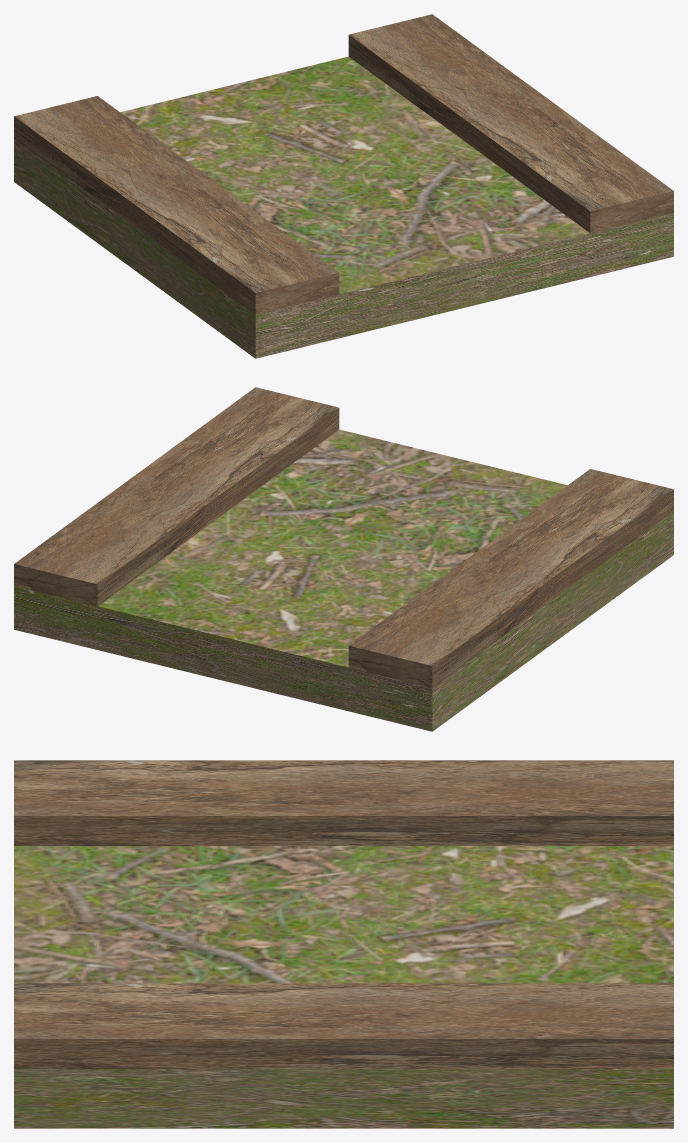
The model's file is Straight.glb.
The picture shows the model from 3 angles, top to bottom: view 1: azimuth 30°, elevation 25°; view 2: azimuth 150°, elevation 25°; view 3: azimuth 270°, elevation 25°; orthographic projection. The views are drawn at different scales.
Parts seen in each view (by area): view 1: Straight Tile, Brick, Brick2; view 2: Straight Tile, Brick, Brick2; view 3: Straight Tile, Brick, Brick2.
Boxes of the visible parts, x1,y1,x2,y2 form: Straight Tile: [14, 56, 673, 358]; Brick: [348, 14, 673, 233]; Brick2: [14, 96, 339, 314]; Straight Tile: [14, 429, 673, 731]; Brick: [14, 387, 339, 606]; Brick2: [348, 469, 673, 687]; Straight Tile: [14, 846, 673, 1128]; Brick: [14, 983, 673, 1068]; Brick2: [14, 760, 673, 845].
Size of the model in its own units: 1 by 0.15 by 1.
Materials: 2 (2 with a texture image).
